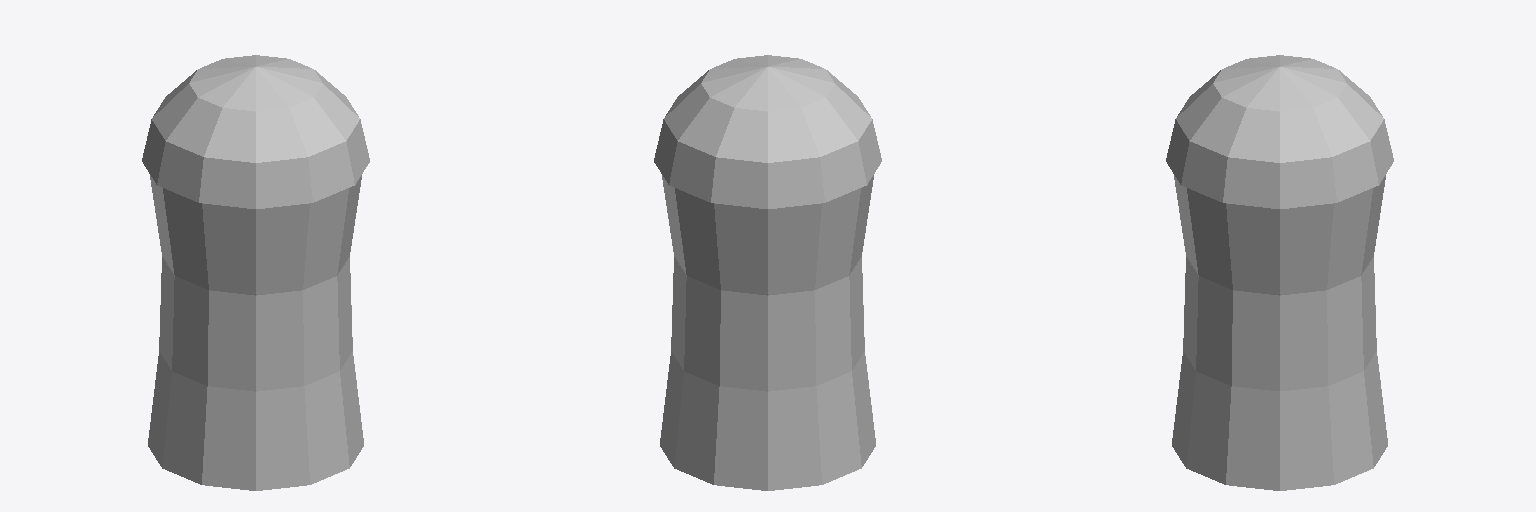
Rendered from silo.obj.
3 views of the same model, side by side, from view 1: azimuth 30°, elevation 25°; view 2: azimuth 150°, elevation 25°; view 3: azimuth 270°, elevation 25° (orthographic).
Visible parts, largest first — view 1: Silo; view 2: Silo; view 3: Silo.
Boxes of the visible parts, box(x1,y1,x2,y2) form: Silo: box(142, 55, 369, 490); Silo: box(654, 55, 881, 490); Silo: box(1166, 55, 1393, 490).
Size of the model in its own units: 0.5874 by 1.07 by 0.5874.